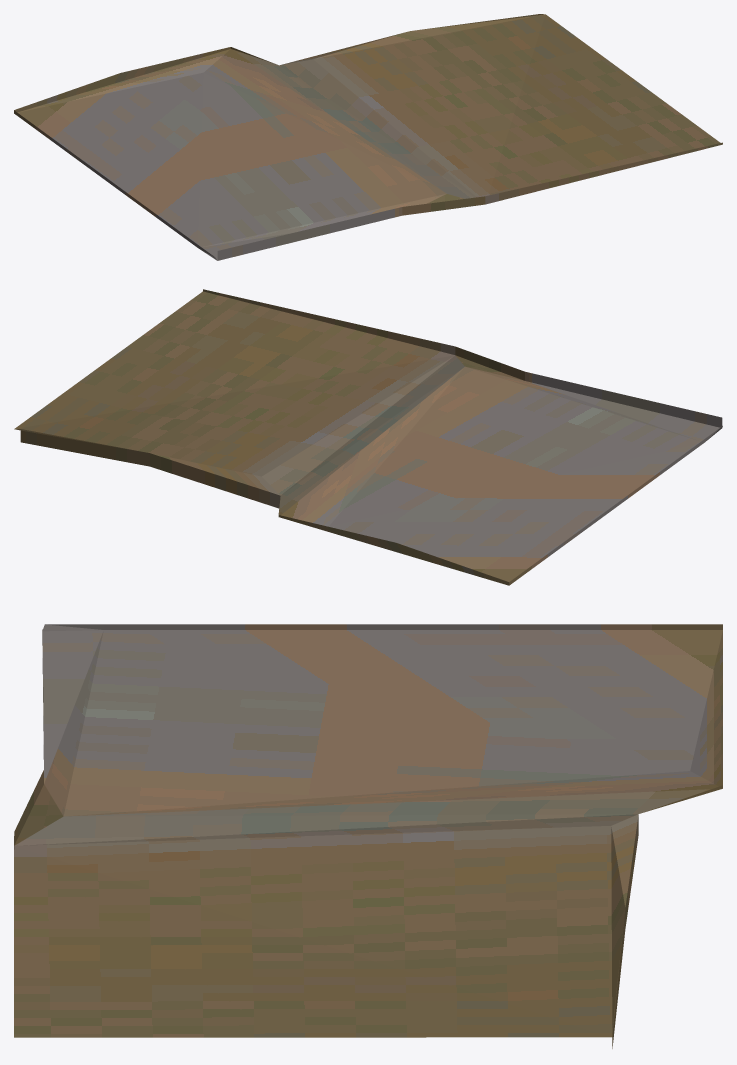
File: lodlae2_grnd10.obj
The picture shows the model from 3 angles, top to bottom: view 1: azimuth 30°, elevation 25°; view 2: azimuth 150°, elevation 25°; view 3: azimuth 270°, elevation 25°; orthographic projection. The views are drawn at different scales.
Visible parts, largest first — view 1: LODlae2_grnd10; view 2: LODlae2_grnd10; view 3: LODlae2_grnd10.
Boxes of the visible parts, x1,y1,x2,y2 form: LODlae2_grnd10: (14, 14, 722, 260); LODlae2_grnd10: (14, 289, 722, 585); LODlae2_grnd10: (14, 624, 722, 1048).
Bounding box in the file's own units: 60.65 × 2.77 × 44.32.
1 material, 1 textured.
